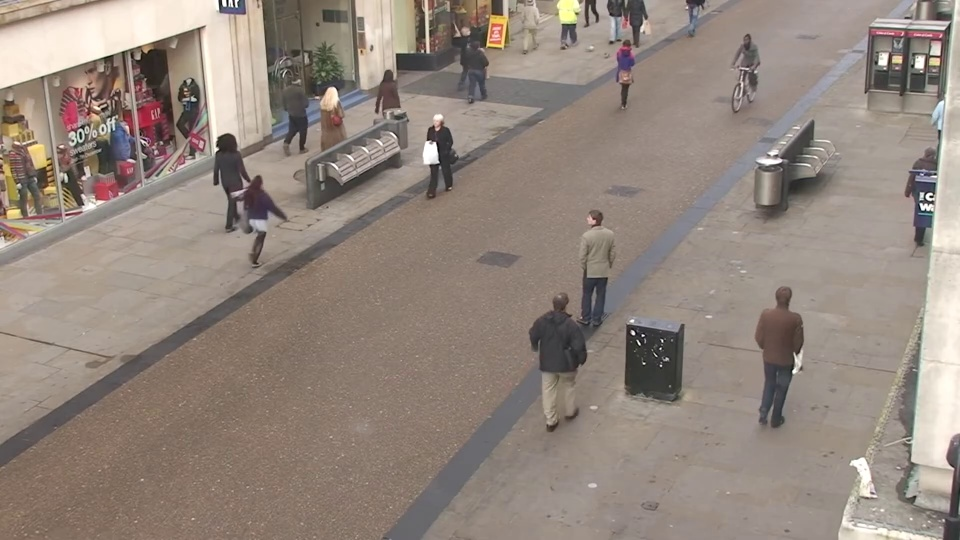pedestrian: (759, 274, 810, 412), (546, 282, 590, 422), (576, 204, 614, 324), (258, 159, 298, 265), (220, 129, 258, 226), (419, 111, 452, 205), (324, 82, 356, 167), (289, 68, 319, 149), (380, 65, 409, 146), (723, 37, 751, 112), (467, 35, 493, 108), (616, 35, 641, 109), (454, 22, 479, 92)
